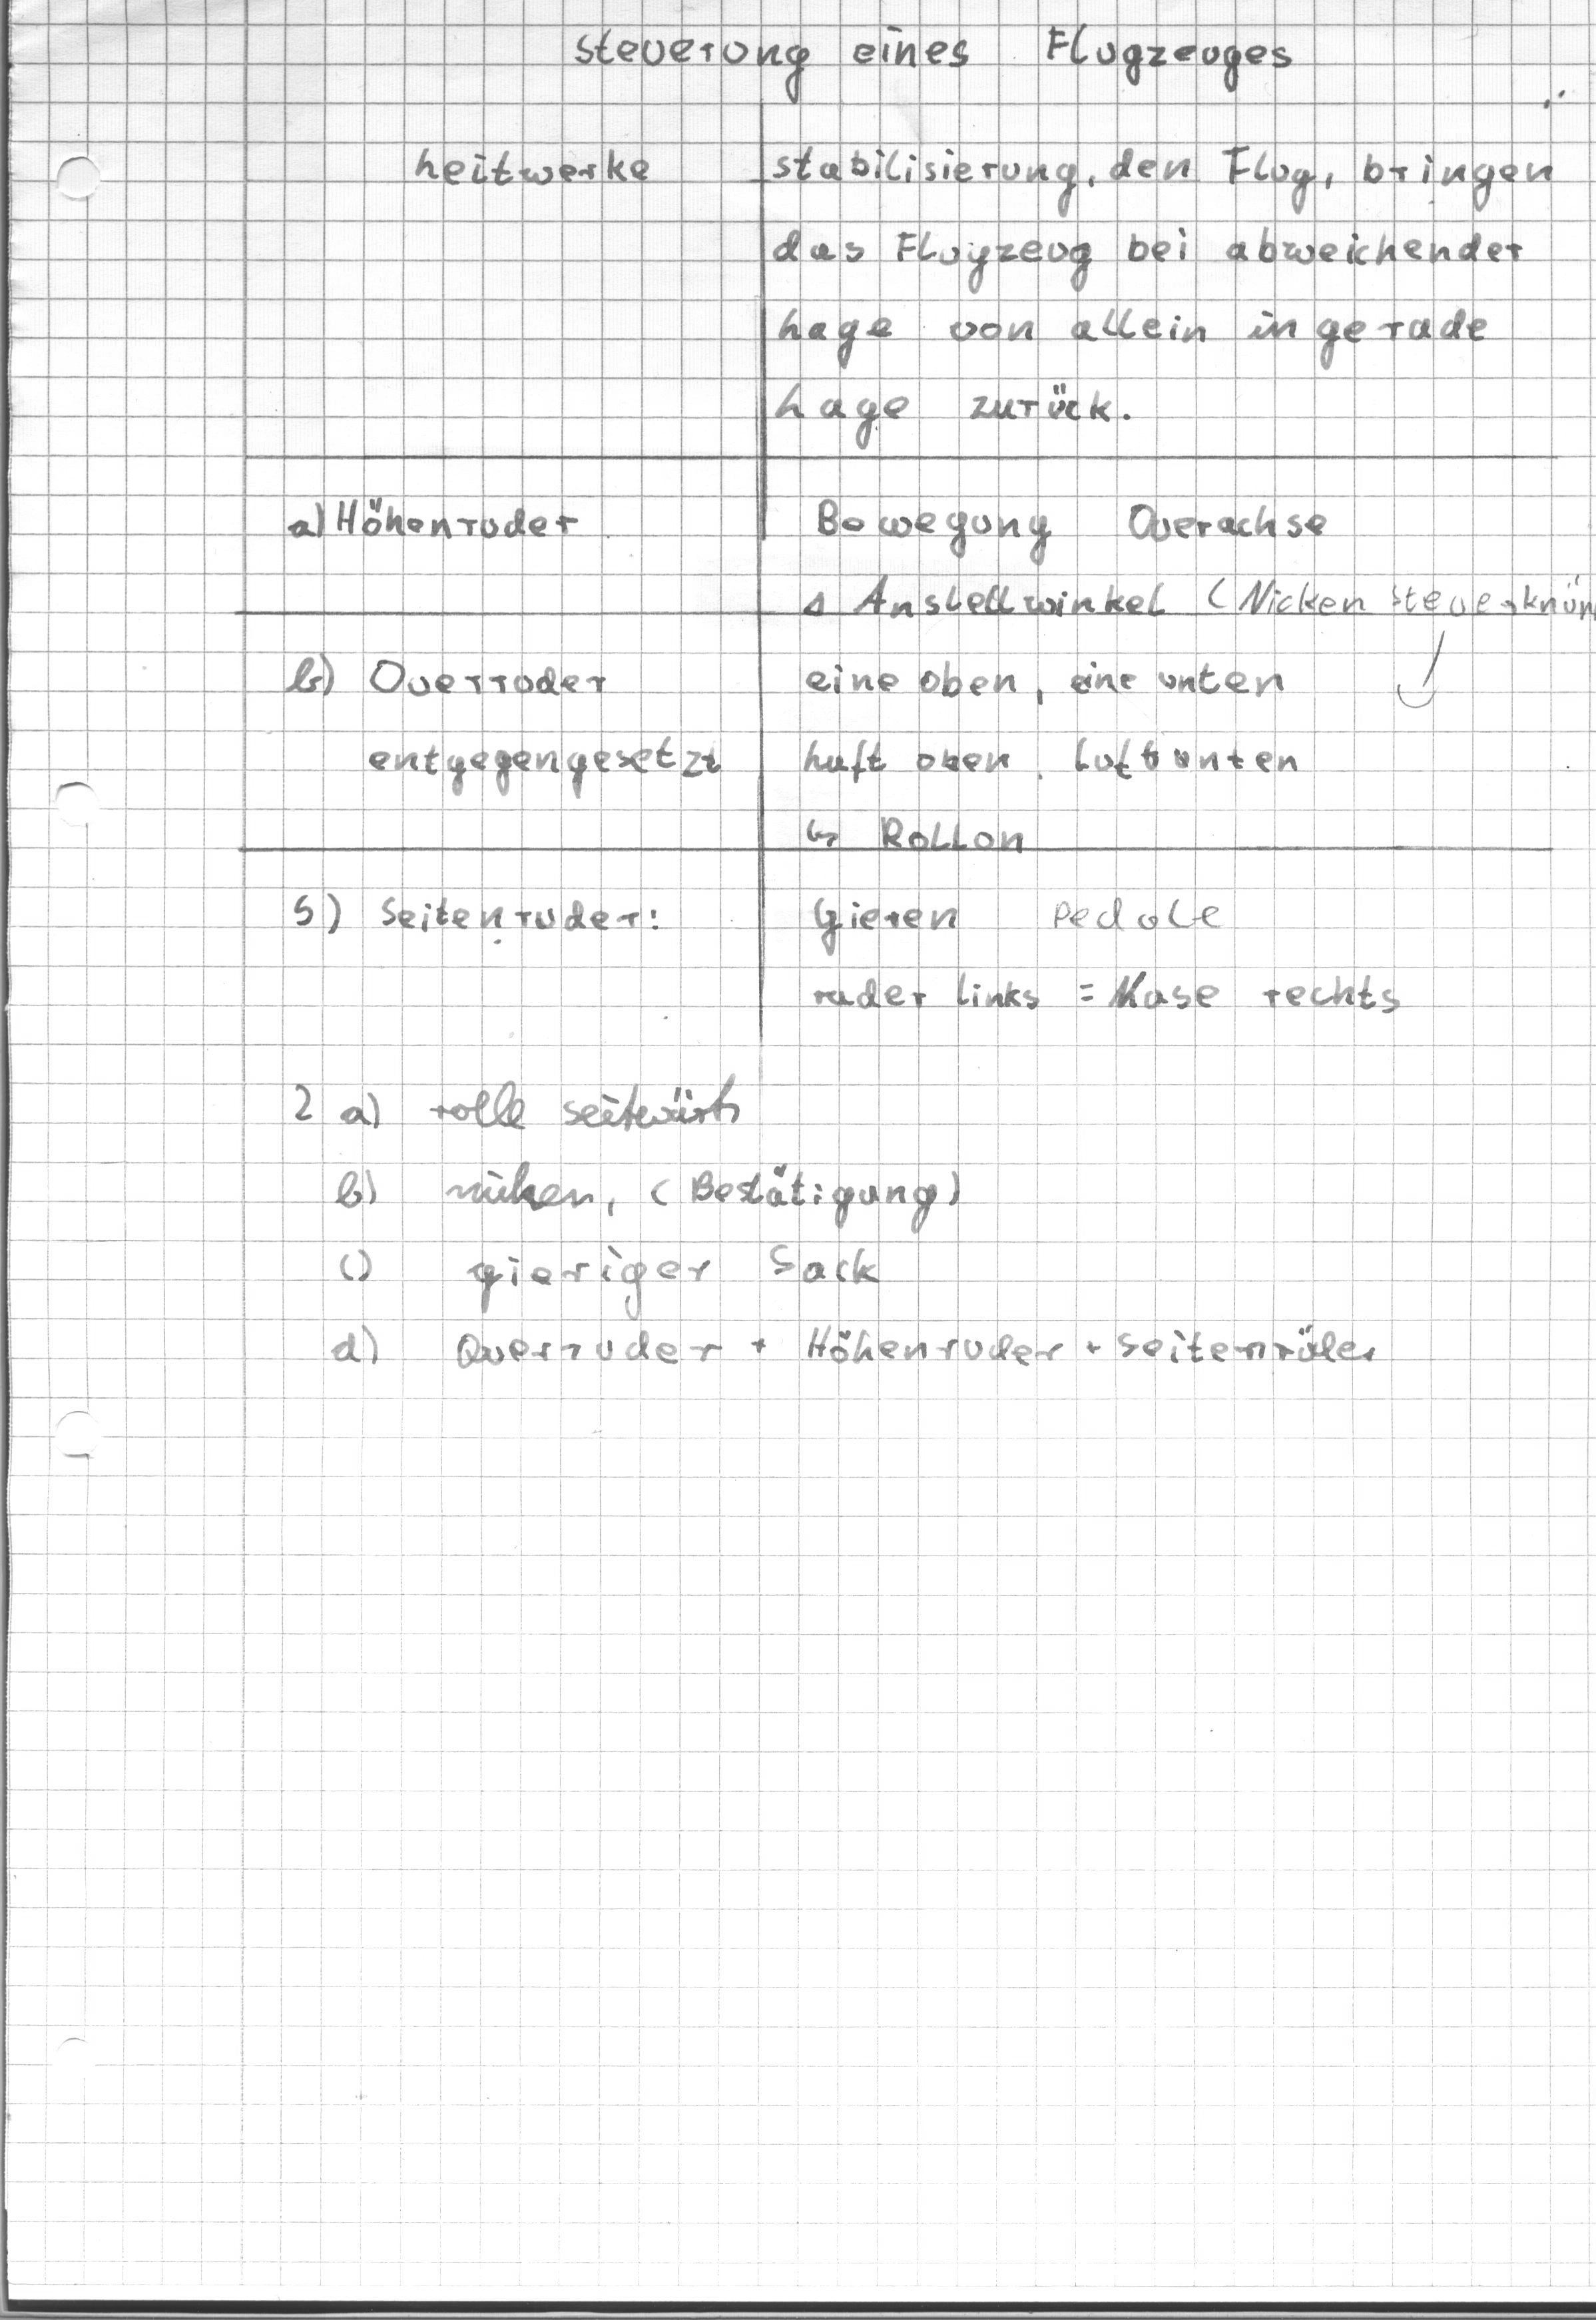word: (418, 1065, 1385, 1383), (745, 122, 1547, 459), (788, 650, 1310, 862), (780, 490, 1329, 631), (348, 646, 734, 806), (799, 960, 1418, 1038), (283, 1066, 408, 1393), (389, 103, 671, 234), (278, 874, 681, 947), (280, 482, 583, 555), (795, 887, 976, 965), (261, 622, 367, 723)
